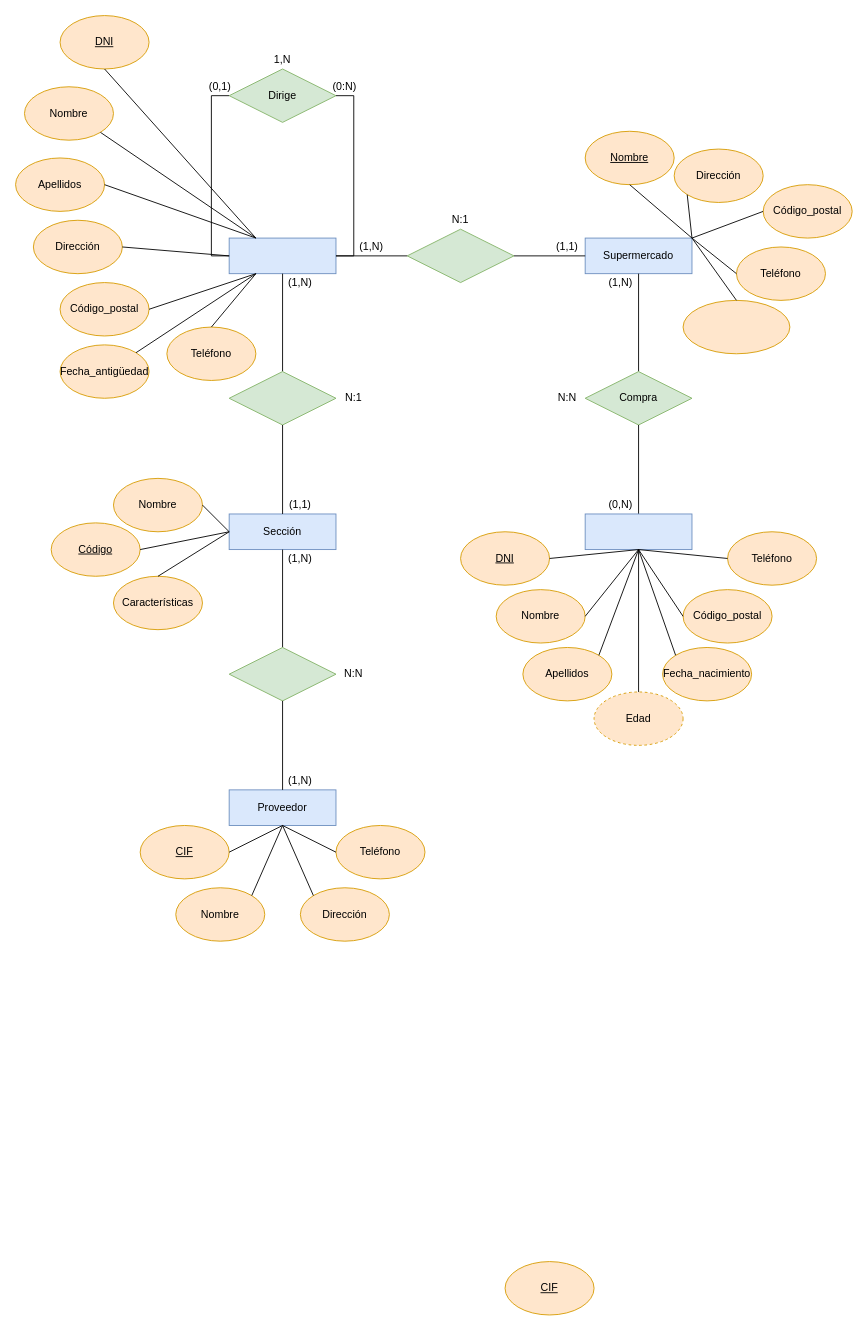
Some shapes in this 868 by 1331 pixel diagram are drawn without their labels. Each missing label, with the centre of its shape:
"Cliente" goes at point 638,531.
"Contratado" goes at point 460,255.
"Empleado" goes at point 282,255.
"Fecha_inauguración" goes at point 736,326.
"Repone" goes at point 282,674.
"Trabaja" goes at point 282,398.
